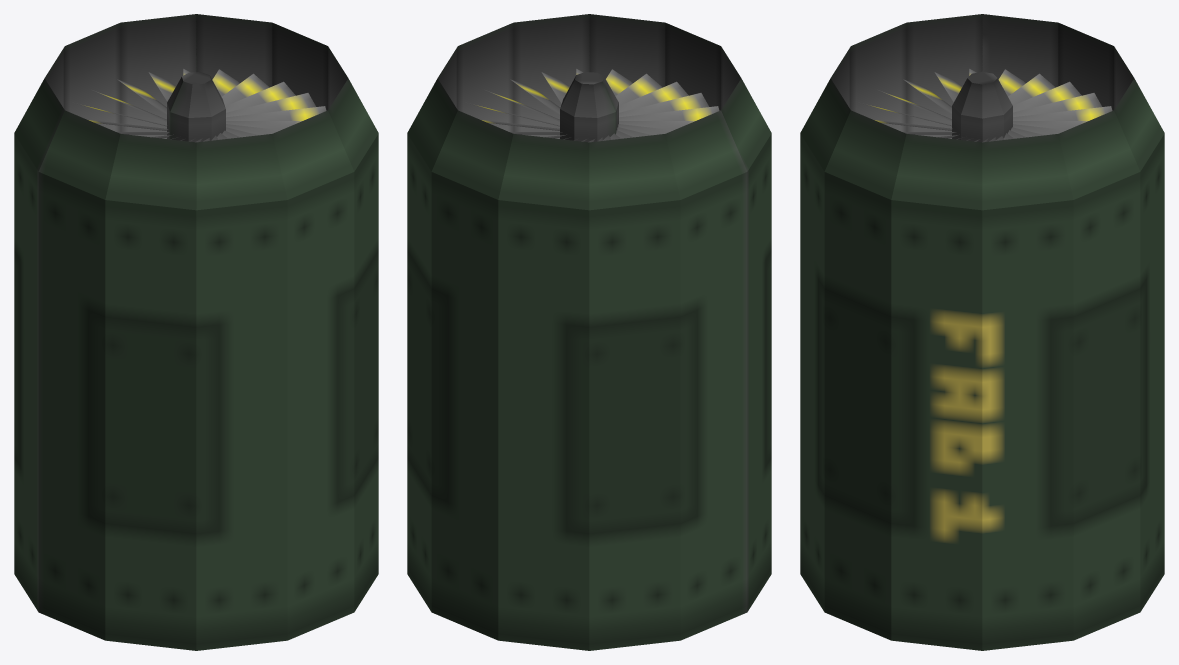
File: mp_w_15_turbine.obj
3 views of the same model, side by side, from view 1: azimuth 30°, elevation 25°; view 2: azimuth 150°, elevation 25°; view 3: azimuth 270°, elevation 25° (orthographic).
Visible parts, largest first — view 1: Circle; view 2: Circle; view 3: Circle.
Part boxes in pixels (bbox=[...]): Circle: bbox=[14, 14, 378, 650]; Circle: bbox=[407, 14, 771, 650]; Circle: bbox=[800, 14, 1164, 650].
Size of the model in its own units: 1.5 by 2.25 by 1.5.
